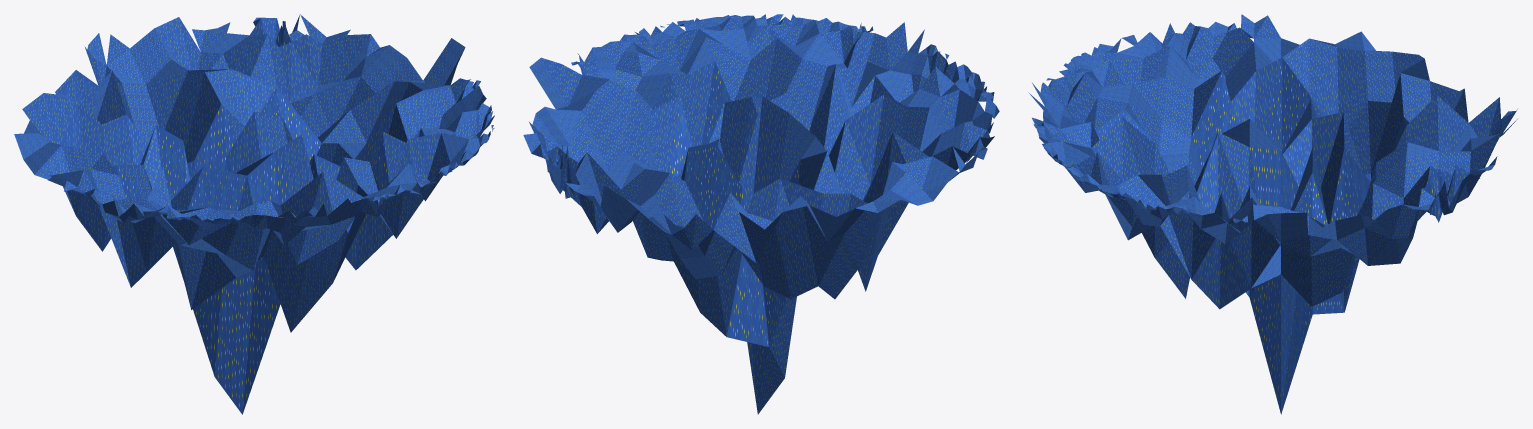
File: blue_iceberg.obj
The picture shows the model from 3 angles, left to right: view 1: azimuth 30°, elevation 25°; view 2: azimuth 150°, elevation 25°; view 3: azimuth 270°, elevation 25°; orthographic projection. The views are drawn at different scales.
Visible parts, largest first — view 1: groundfinal.004; view 2: groundfinal.004; view 3: groundfinal.004.
Boxes of the visible parts, x1=… form: groundfinal.004: x1=14, y1=14, x2=494, y2=414; groundfinal.004: x1=523, y1=14, x2=999, y2=414; groundfinal.004: x1=1028, y1=14, x2=1517, y2=414.
Size of the model in its own units: 453 by 317 by 452.
